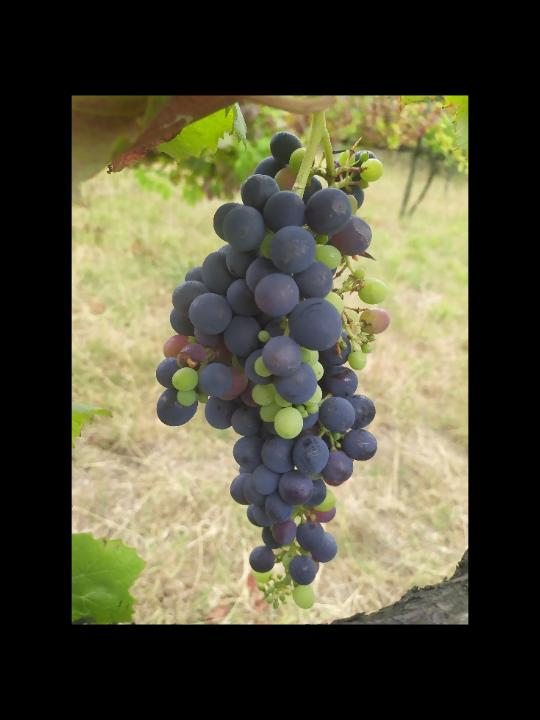grape: (153, 131, 395, 611)
